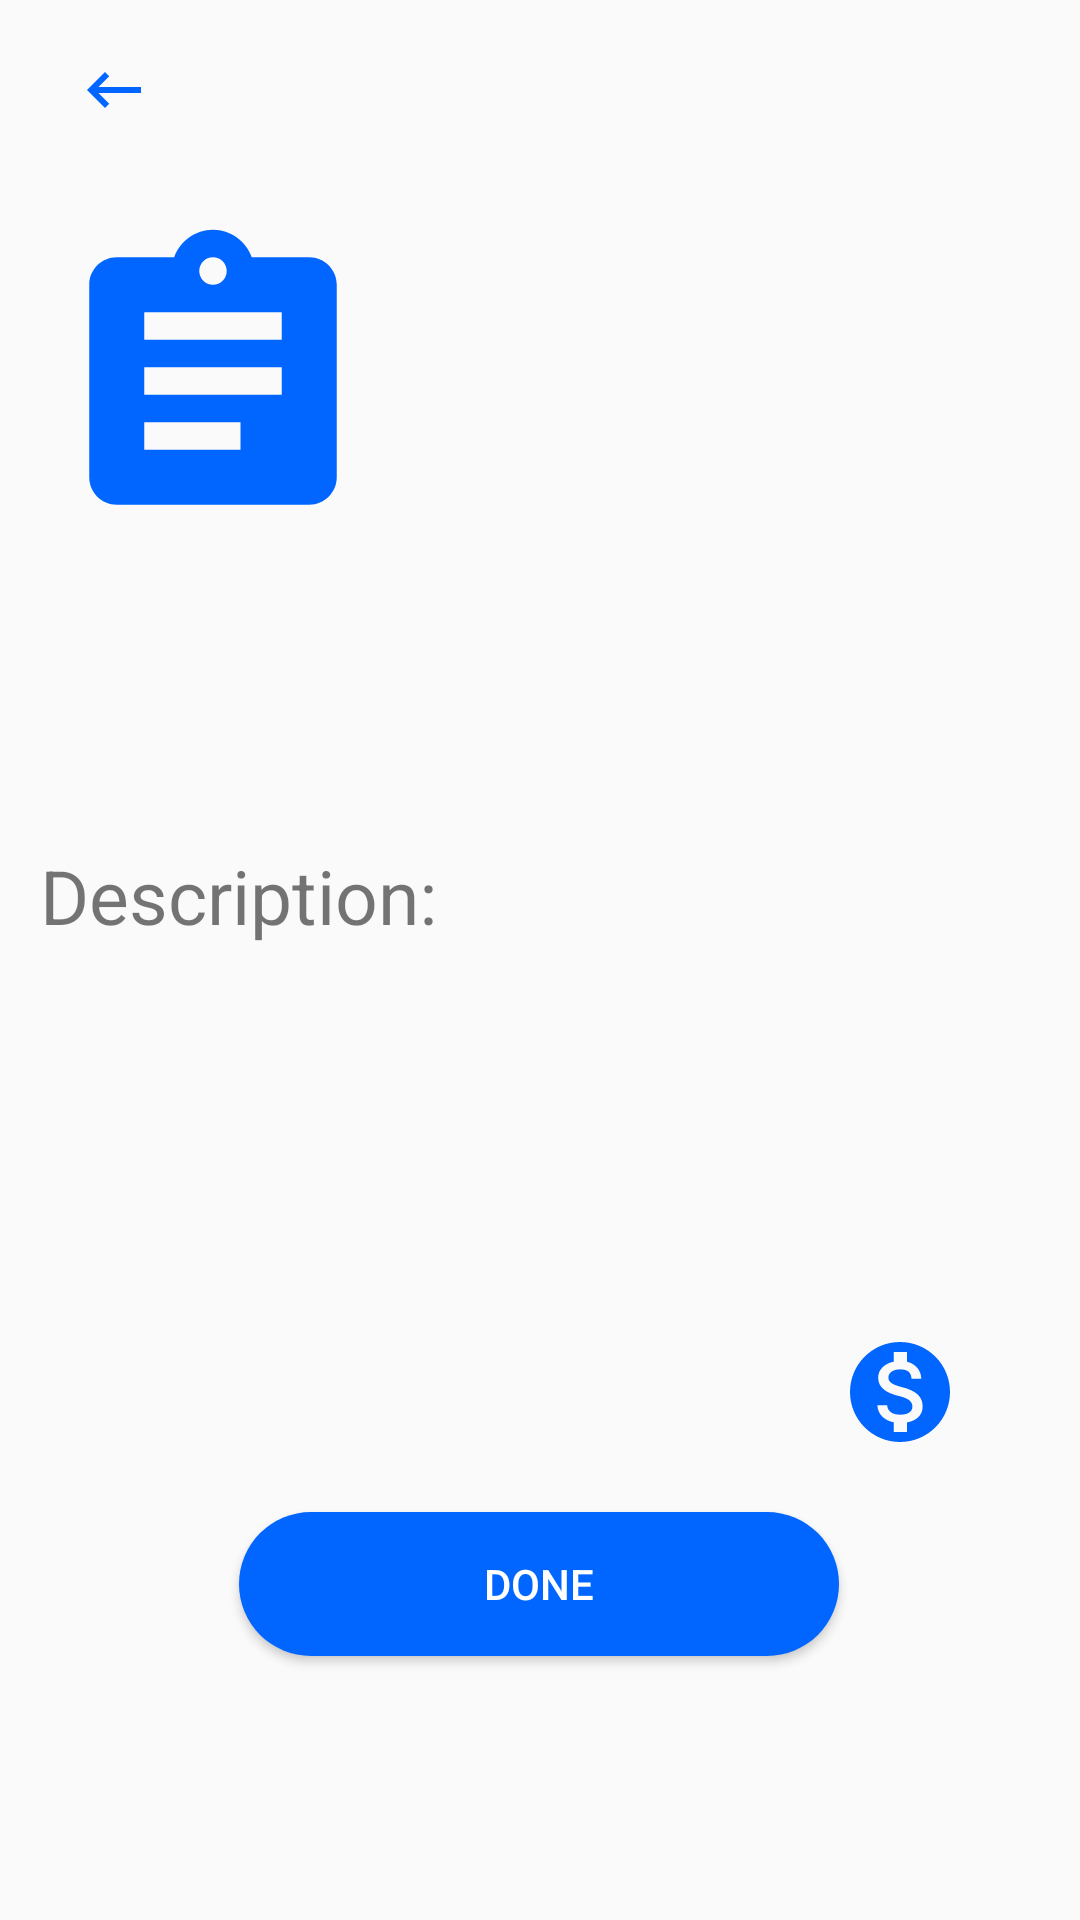

Icons on this 1080*1920 Android screen, each with the point to tap as (x=x, y=y):
assignment: (x=213, y=367)
keyboard backspace: (x=114, y=90)
monetization on: (x=900, y=1392)
